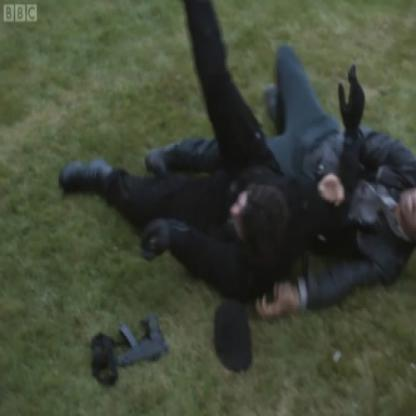Guns: (99, 304, 171, 374)
